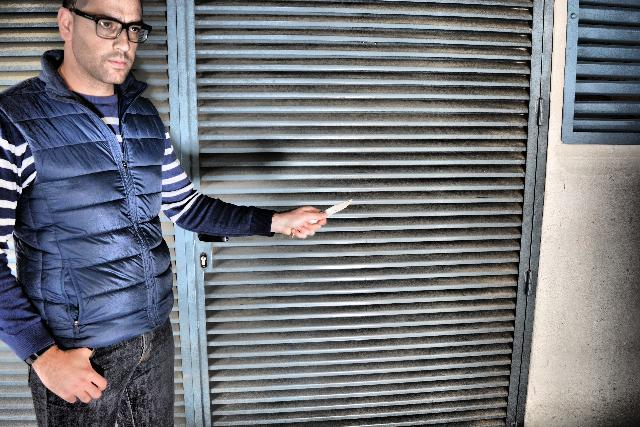knife: (288, 196, 356, 239)
